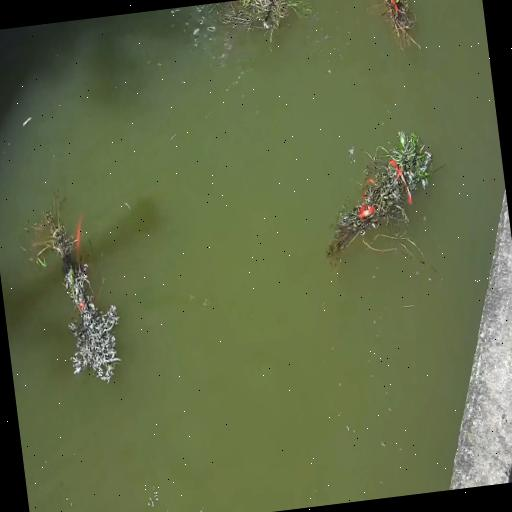twig: (13, 182, 130, 391), (314, 126, 451, 278), (16, 189, 80, 271), (214, 0, 299, 49), (368, 0, 422, 56)
